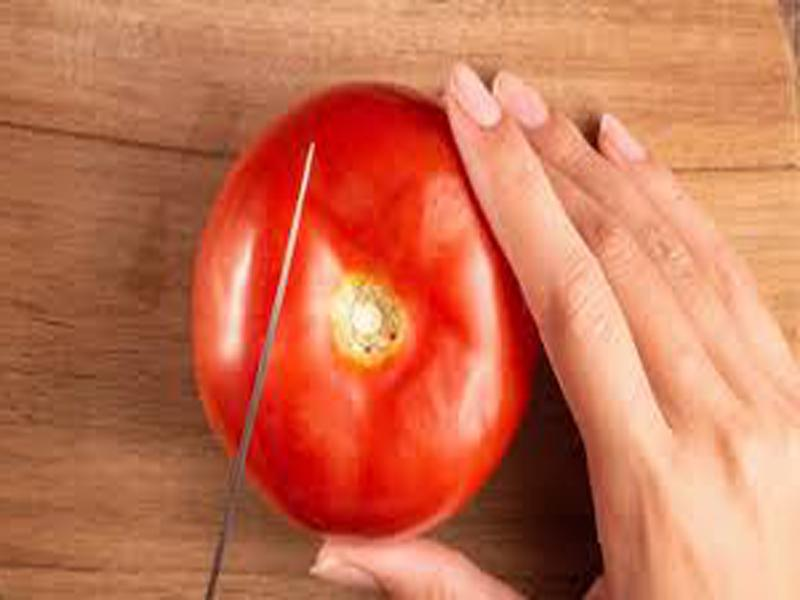Tomato: (199, 86, 540, 536)
